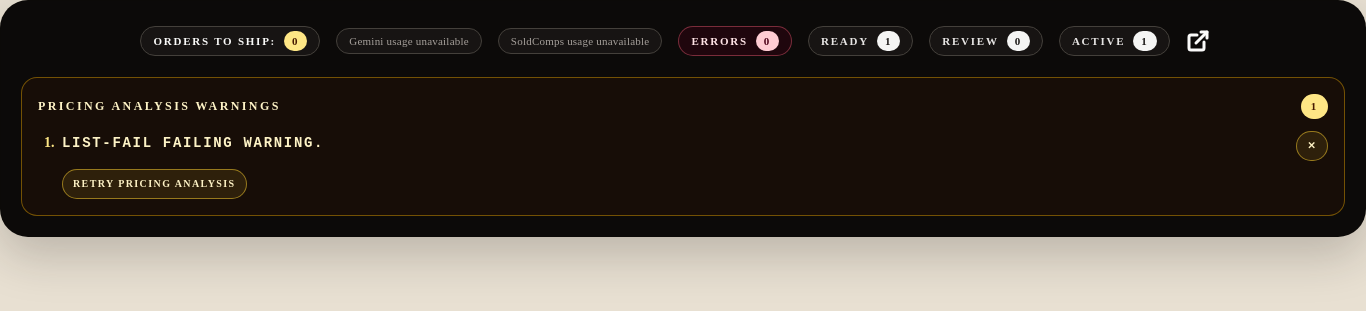
Test: QueueErrorsPanel › shows error message on dismiss failure
Click the button "✕". click: x=1312, y=146
box: left=1296, top=130, right=1328, bottom=160
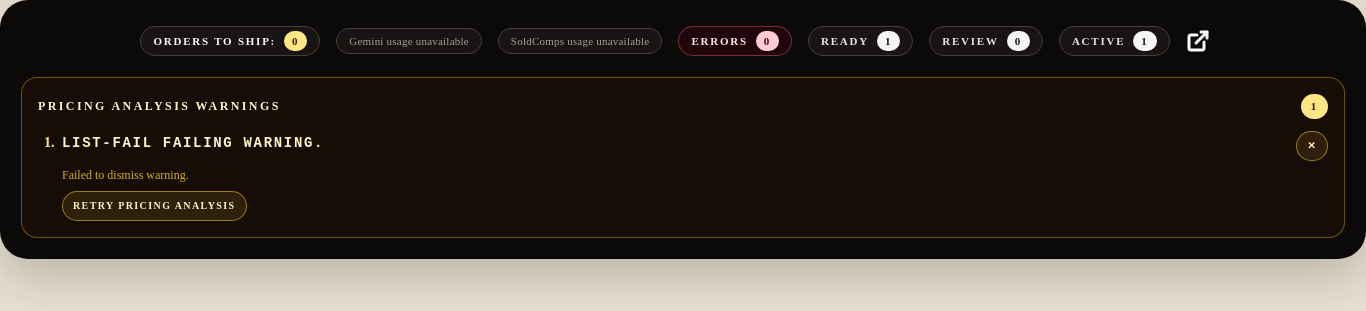
expect the text "Failed to dismiss warning." is shown: met, box left=62, top=168, right=189, bottom=182
